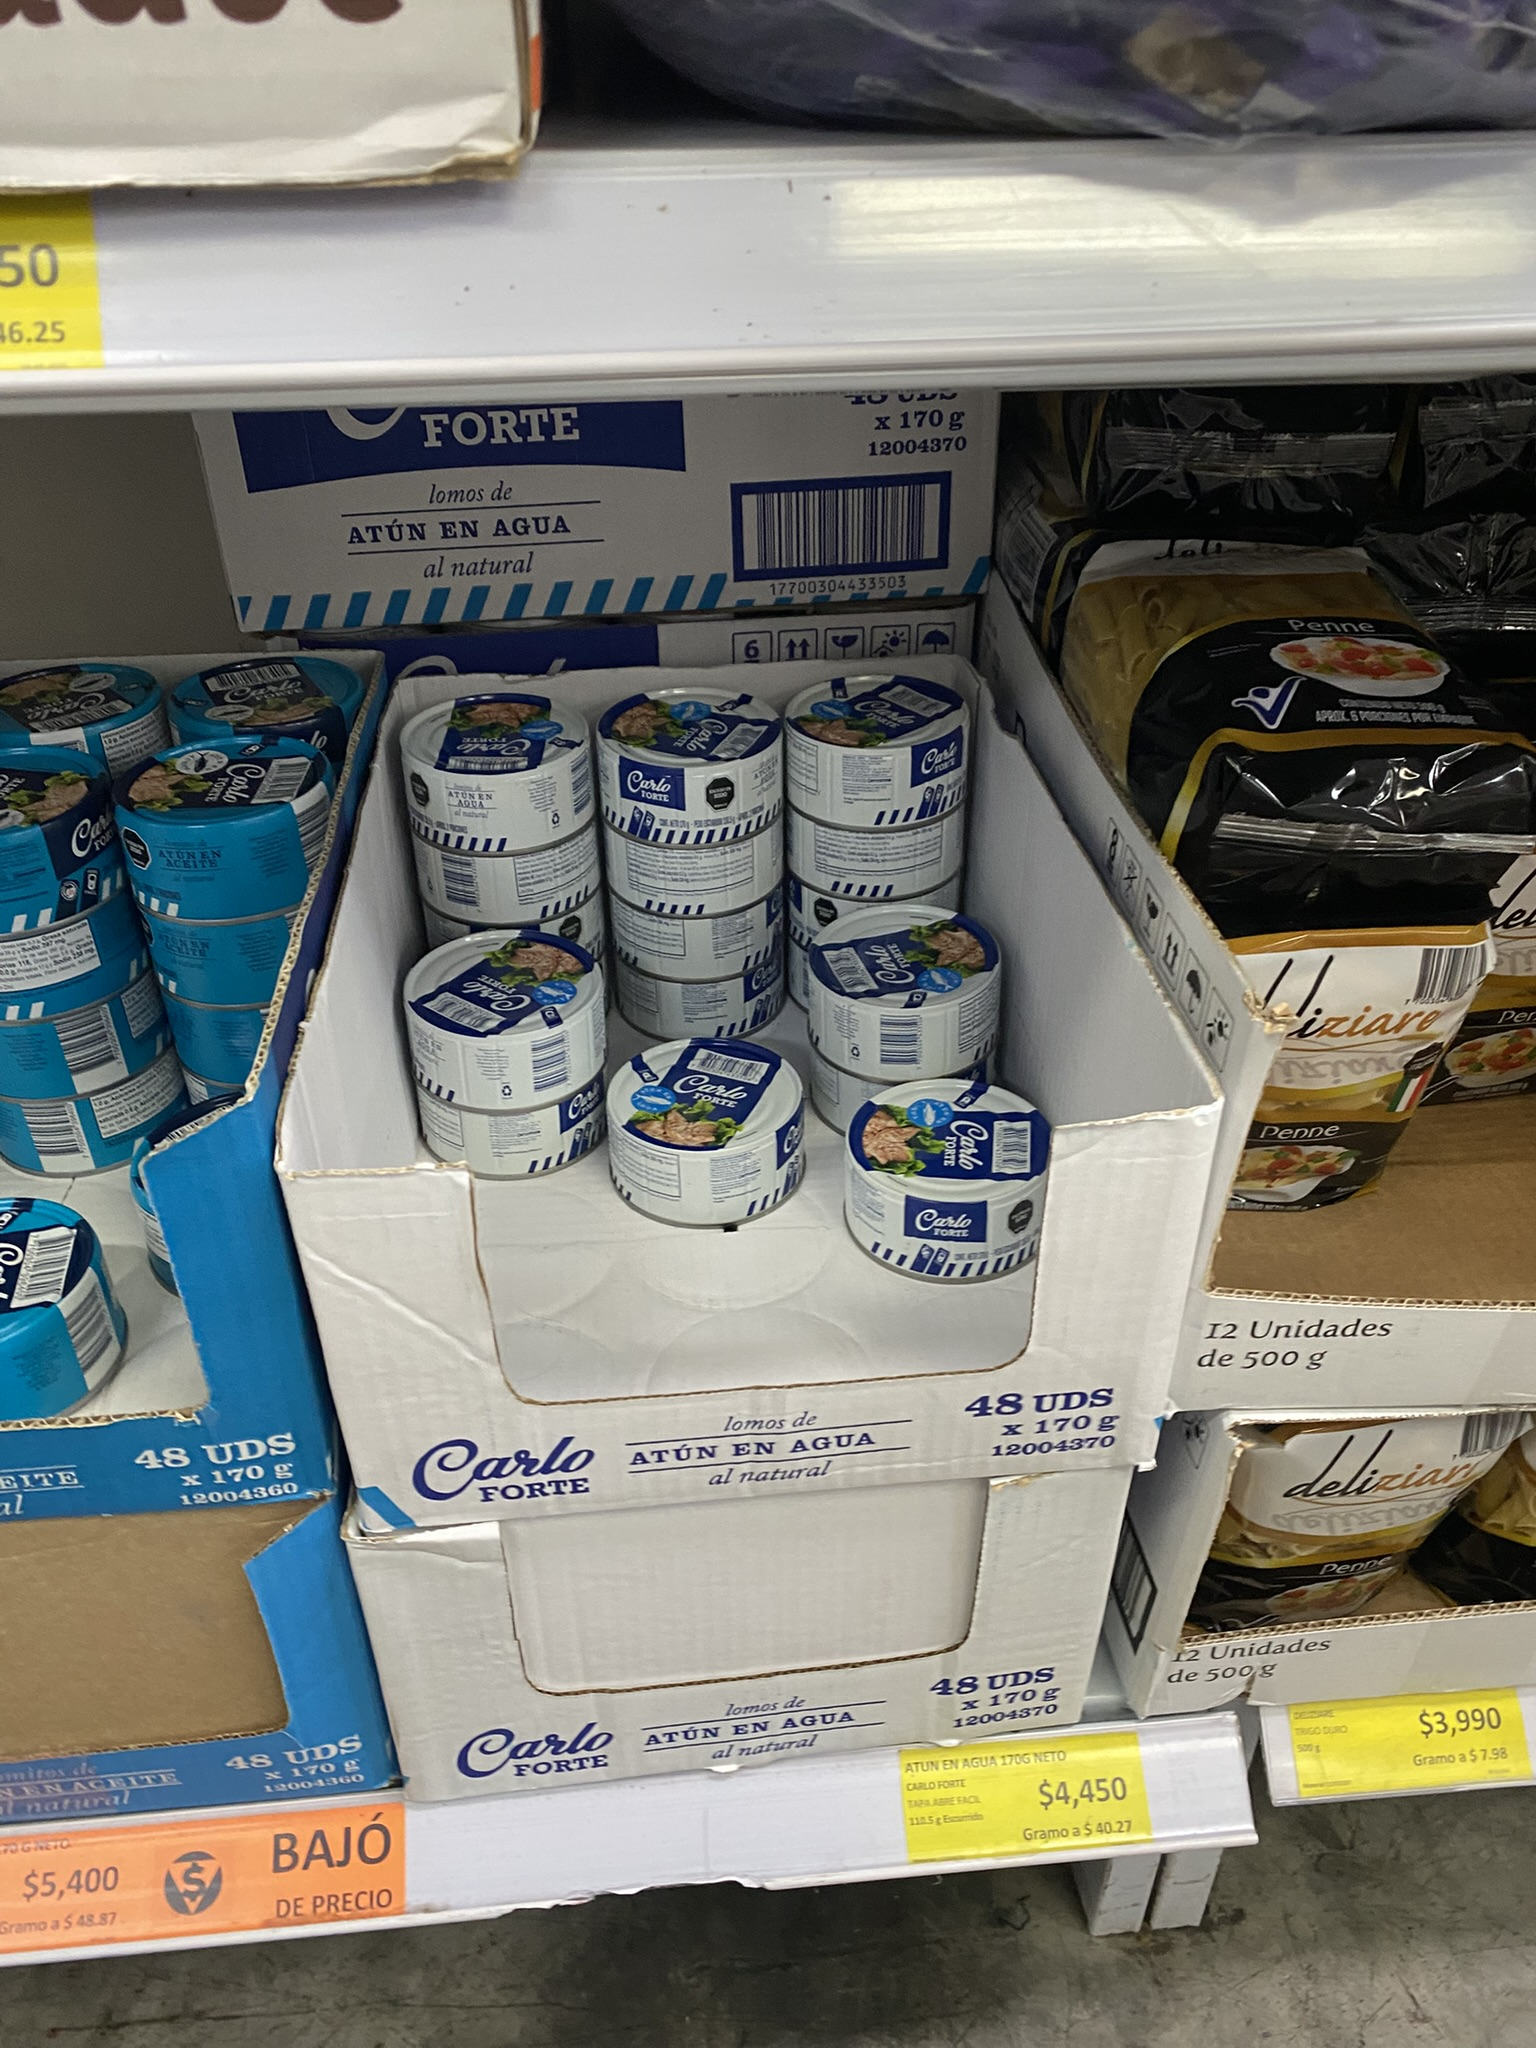Atun: (829, 1068, 1049, 1282), (389, 919, 607, 1101), (610, 1035, 805, 1237), (389, 668, 591, 840), (599, 660, 779, 837), (816, 901, 995, 1064), (787, 664, 970, 808), (416, 1071, 610, 1166), (620, 939, 784, 1047), (607, 805, 779, 903), (395, 835, 603, 916), (603, 887, 784, 976), (776, 816, 987, 879)
